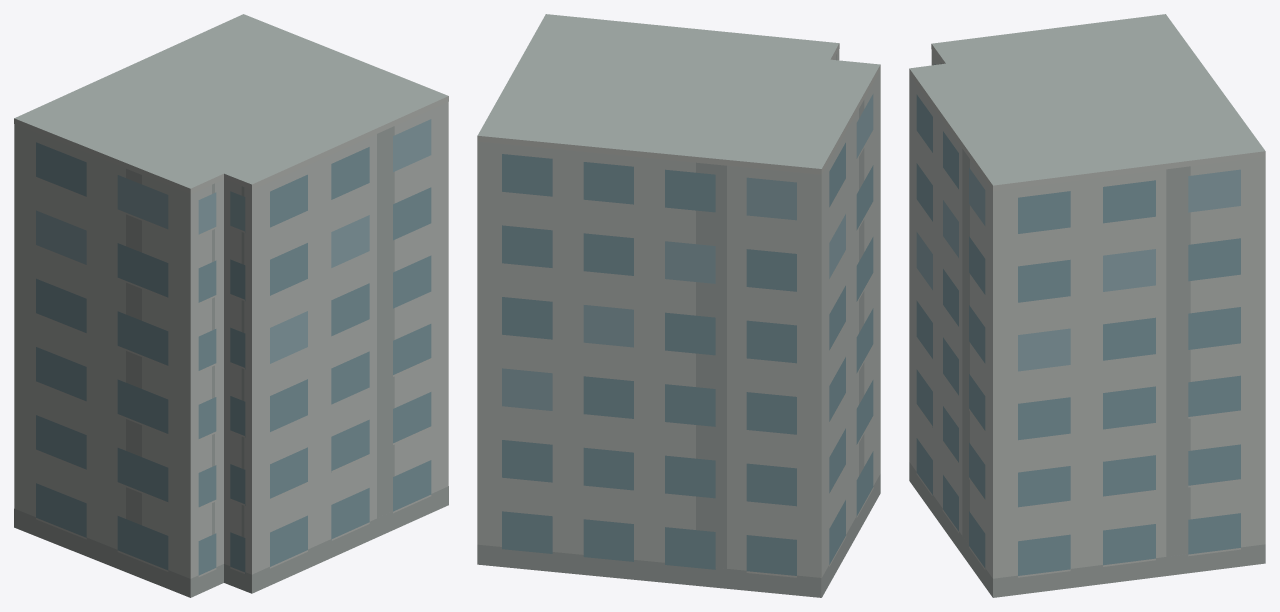
The model's file is survey-upis-32581388.glb.
3 renders of one model, left to right at view 1: azimuth 30°, elevation 25°; view 2: azimuth 150°, elevation 25°; view 3: azimuth 270°, elevation 25°, orthographic. The views are drawn at different scales.
Parts seen in each view (by area): view 1: survey-upis-32581388.tmp; view 2: survey-upis-32581388.tmp; view 3: survey-upis-32581388.tmp.
Part boxes in pixels (x1,y1,x2,y2): survey-upis-32581388.tmp: (14,14,448,597); survey-upis-32581388.tmp: (477,14,880,597); survey-upis-32581388.tmp: (909,14,1265,597).
Size of the model in its own units: 15.9 by 17.8 by 13.95.
